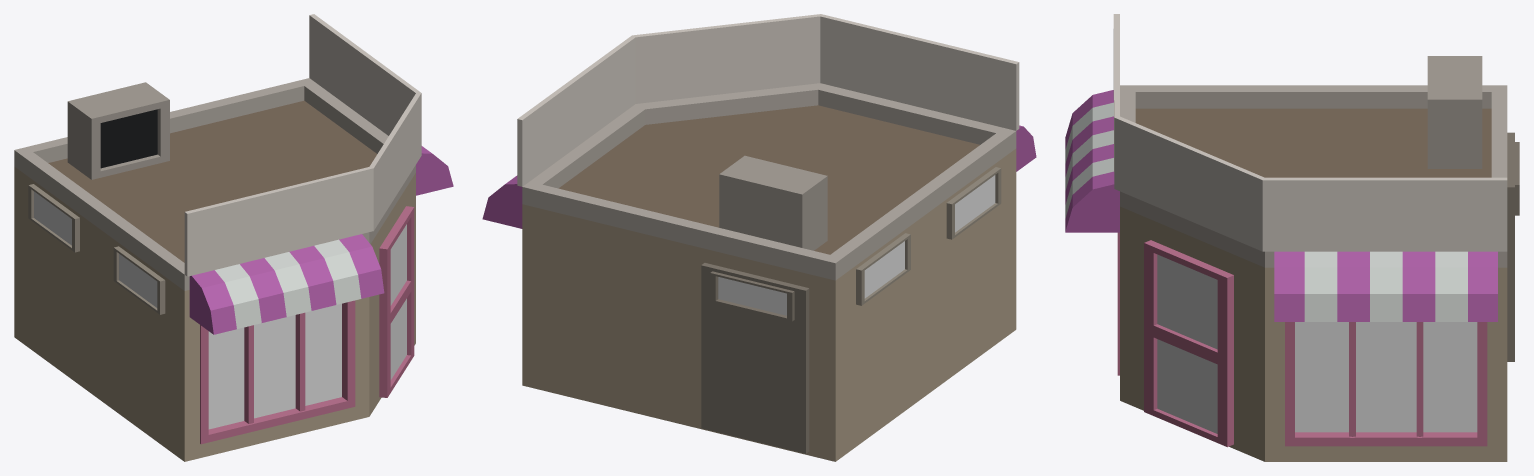
The model's file is SM_market_02_B.gltf.
The picture shows the model from 3 angles, left to right: view 1: azimuth 30°, elevation 25°; view 2: azimuth 150°, elevation 25°; view 3: azimuth 270°, elevation 25°; orthographic projection. The views are drawn at different scales.
Visible parts, largest first — view 1: SM_market_02_B; view 2: SM_market_02_B; view 3: SM_market_02_B.
Boxes of the visible parts, x1=… form: SM_market_02_B: x1=14, y1=14, x2=453, y2=461; SM_market_02_B: x1=482, y1=14, x2=1036, y2=461; SM_market_02_B: x1=1065, y1=14, x2=1519, y2=461.
Size of the model in its own units: 3.44 by 2.41 by 3.49.
